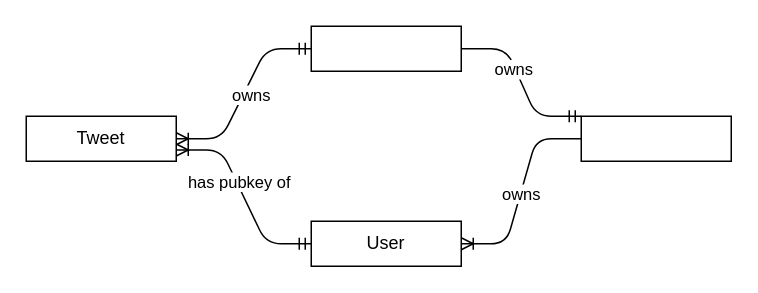
The diagram is 758 pixels wide and 293 high, and some of its shapes have lost their labels. Each missing label, with the centre of its shape:
Solana-Twitter: the point at 385,48
System Program: the point at 655,138
